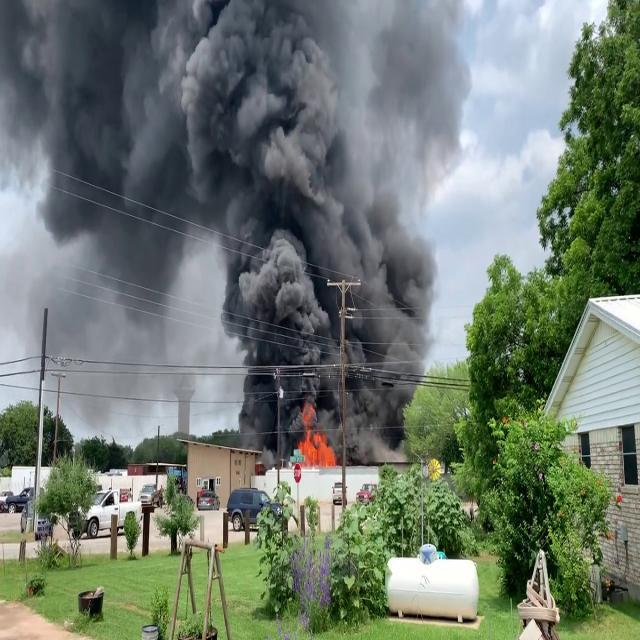Fire: (294, 410, 338, 466)
Smoke: (8, 0, 471, 444)
